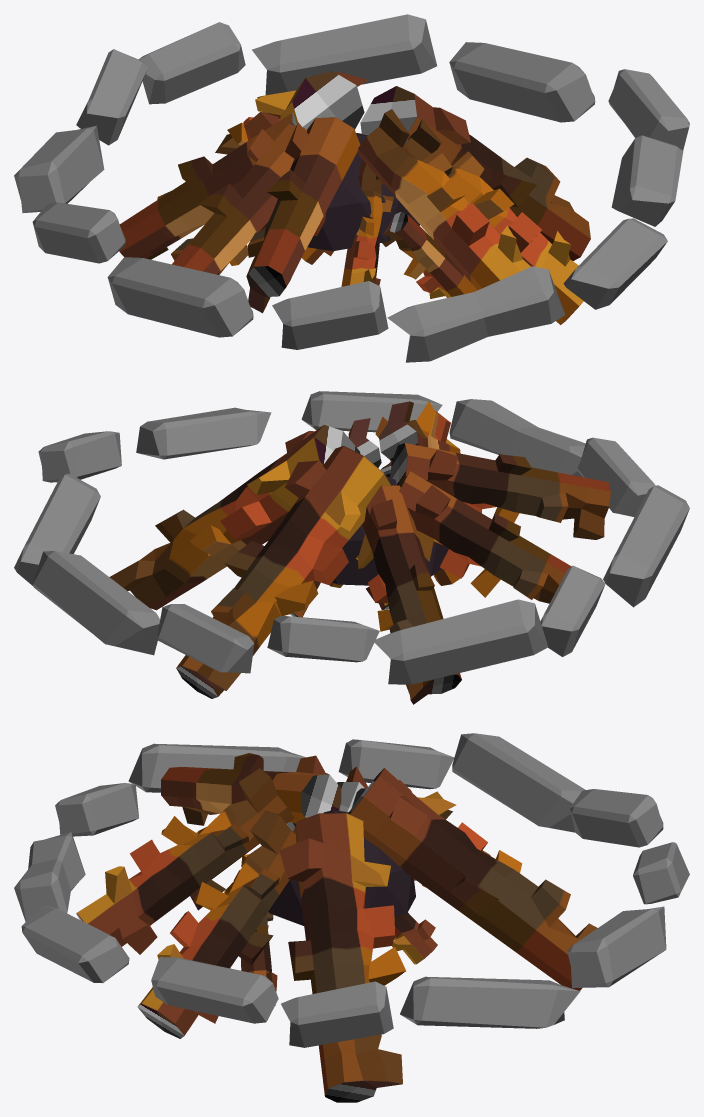
The model's file is customCamp.gltf.
The picture shows the model from 3 angles, top to bottom: view 1: azimuth 30°, elevation 25°; view 2: azimuth 150°, elevation 25°; view 3: azimuth 270°, elevation 25°; orthographic projection. The views are drawn at different scales.
Parts seen in each view (by area): view 1: Cylinder.003, Cylinder.010, Cube.003, Cylinder.007, Cube.010, Cube.002, Cube.004, Cylinder.002, Cylinder.009, Cylinder.008, Cube.009, Object (+10 smaller); view 2: Cylinder, Cylinder.007, Cylinder.010, Cylinder.002, Cube.005, Cylinder.009, Cube.003, Cube.010, Cube.002, Cube.001, Cube.004, Object (+8 smaller); view 3: Cylinder.007, Cylinder, Cylinder.003, Cylinder.008, Cube.004, Cylinder.010, Cube.005, Cube.001, Cube.003, Cube, Cube.011, Cube.007 (+9 smaller).
Part boxes in pixels (x1,y1,x2,y2): Cylinder.003: (358, 109, 530, 289); Cylinder.010: (246, 117, 360, 313); Cube.003: (252, 14, 436, 95); Cylinder.007: (360, 86, 590, 260); Cube.010: (387, 266, 565, 362); Cube.002: (107, 257, 253, 337); Cube.004: (449, 42, 595, 122); Cylinder.002: (171, 123, 307, 274); Cylinder.009: (119, 111, 296, 259); Cylinder.008: (404, 119, 583, 324); Cube.009: (272, 281, 388, 349); Object: (139, 22, 245, 104); Cylinder: (176, 446, 390, 698); Cylinder.007: (109, 425, 360, 610); Cylinder.010: (390, 443, 610, 539); Cylinder.002: (399, 471, 571, 603); Cube.005: (374, 599, 547, 684); Cylinder.009: (356, 485, 461, 704); Cube.003: (33, 551, 160, 655); Cube.010: (449, 399, 585, 477); Cube.002: (603, 485, 689, 607); Cube.001: (136, 407, 271, 459); Cube.004: (14, 473, 100, 586); Object: (157, 604, 254, 673); Cylinder.007: (279, 813, 405, 1102); Cylinder: (348, 768, 597, 990); Cylinder.003: (76, 768, 293, 954); Cylinder.008: (137, 811, 296, 1038); Cube.004: (400, 976, 580, 1028); Cylinder.010: (161, 753, 341, 825); Cube.005: (452, 733, 585, 832); Cube.001: (151, 957, 278, 1023); Cube.003: (567, 906, 666, 987); Cube: (281, 981, 393, 1047); Cube.011: (21, 905, 129, 982); Cube.007: (569, 789, 663, 847).
Size of the model in its own units: 8.68 by 3.3 by 8.74.
Materials: 7 (4 with a texture image).
